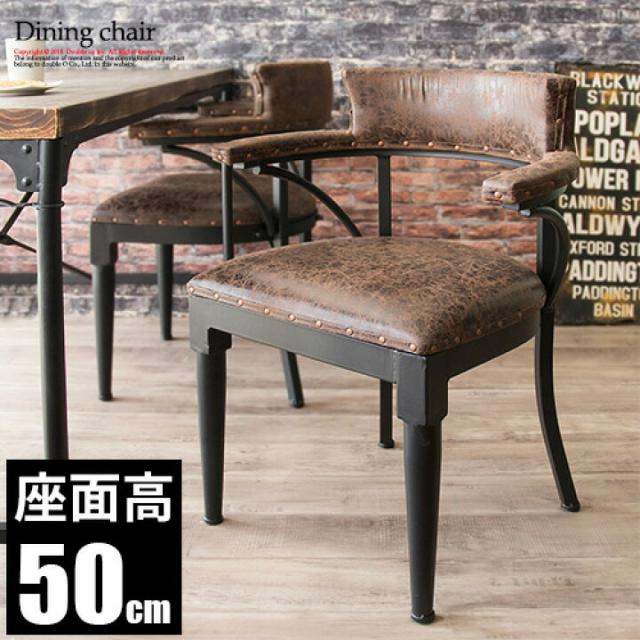chair vintage: (186, 61, 611, 621)
